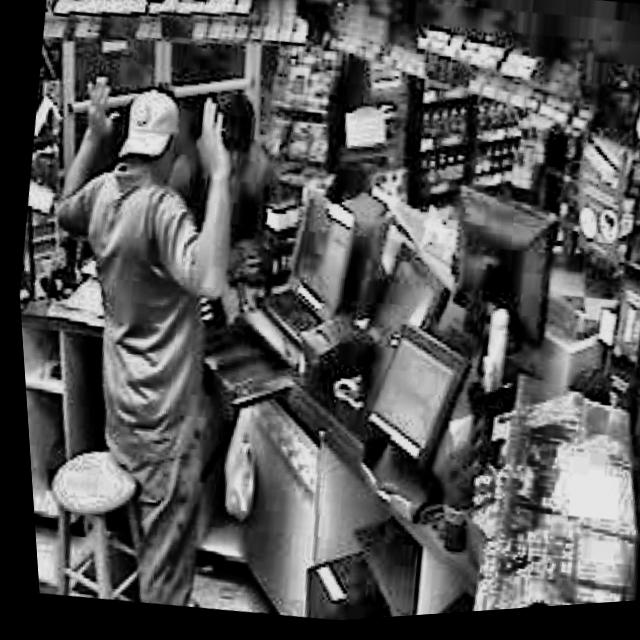robbery: (34, 63, 303, 325)
